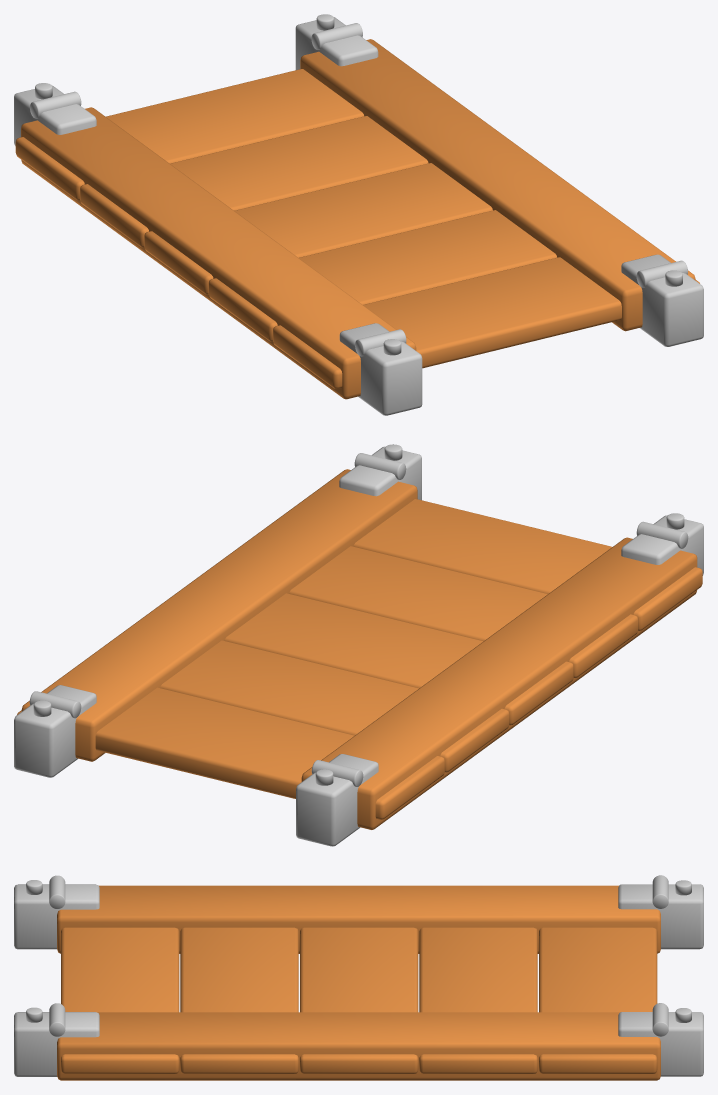
File: Bridge2.fbx
The picture shows the model from 3 angles, top to bottom: view 1: azimuth 30°, elevation 25°; view 2: azimuth 150°, elevation 25°; view 3: azimuth 270°, elevation 25°; orthographic projection. The views are drawn at different scales.
Parts seen in each view (by area): view 1: Plan, Plan.001, Plan.003; view 2: Plan, Plan.001, Plan.003; view 3: Plan, Plan.001, Plan.003.
Boxes of the visible parts, x1=… form: Plan: x1=15, y1=69, x2=699, y2=388; Plan.001: x1=21, y1=39, x2=695, y2=399; Plan.003: x1=14, y1=14, x2=703, y2=415; Plan: x1=17, y1=499, x2=702, y2=819; Plan.001: x1=21, y1=469, x2=697, y2=829; Plan.003: x1=14, y1=444, x2=703, y2=846; Plan: x1=61, y1=927, x2=657, y2=1073; Plan.001: x1=57, y1=885, x2=660, y2=1080; Plan.003: x1=14, y1=875, x2=703, y2=1076.
Size of the model in its own units: 200 by 32.88 by 350.
